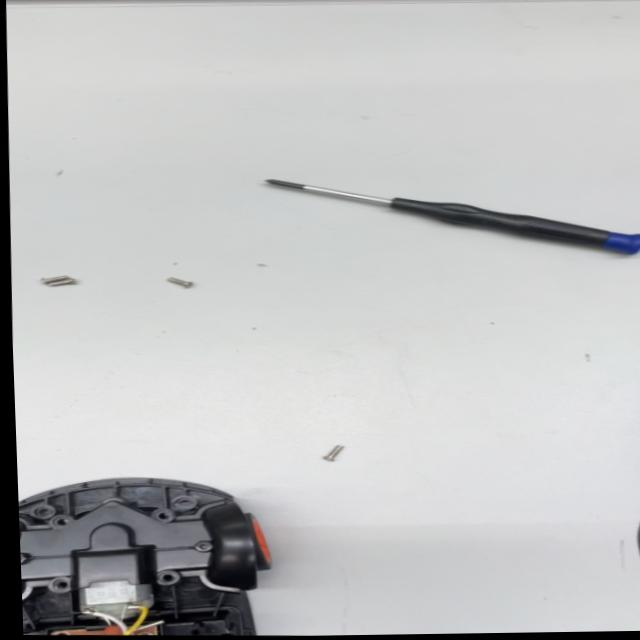screw: (315, 437, 350, 467), (39, 272, 82, 294), (156, 273, 195, 293)
screw_driver: (260, 167, 640, 260)
